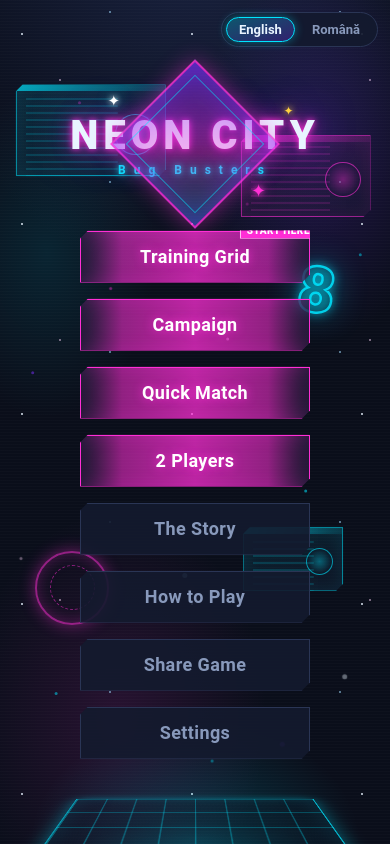
Test: Campaign › opens the system list with only Street Grid unlocked, then the map
Click the button "Campaign" at (195, 324), box [80,298,310,350]
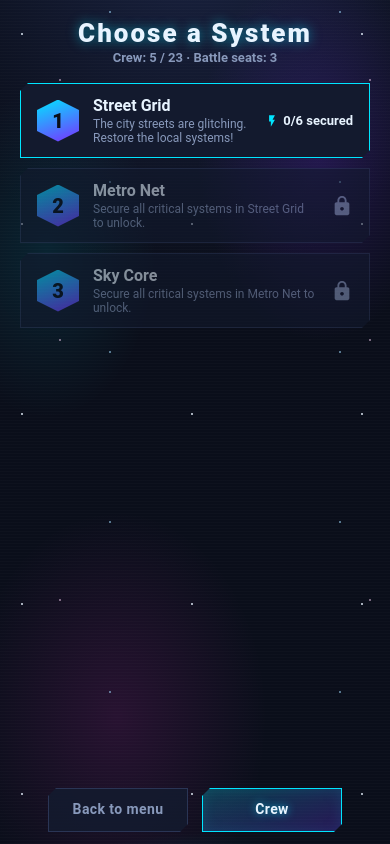
Now the heading "Choose a System" is shown, box [78,18,312,48]
Now the text "Street Grid" is shown
Now the number of buttons with class "ls-card" is 3, box [20,83,370,158]; [20,168,370,243]; [20,253,370,328]
Click the text "Street Grid" at (132, 106), box [93,96,171,115]
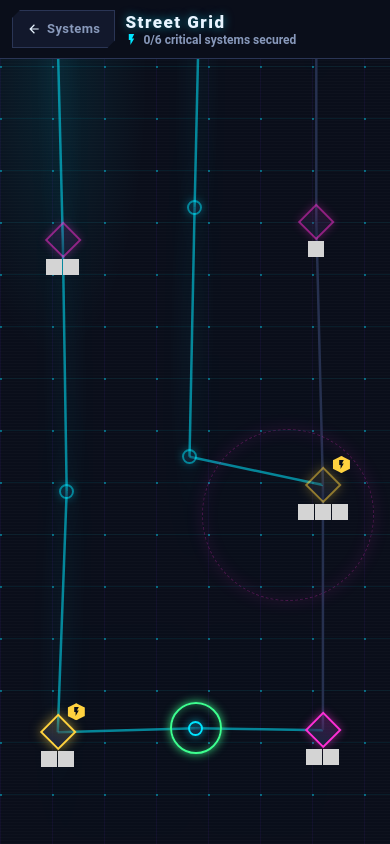
Now the text "0/6 critical systems secured" is shown, box [125,32,296,46]
